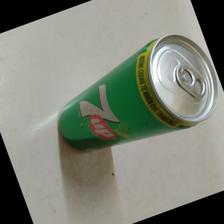7up: (57, 34, 218, 153)
